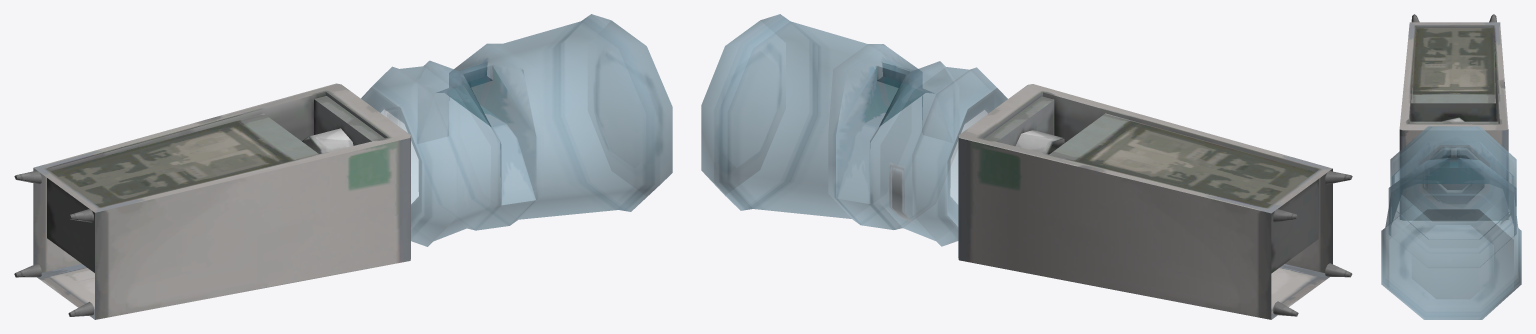
Rendered from props_spytech_watercooler.glb.
3 renders of one model, left to right at view 1: azimuth 30°, elevation 25°; view 2: azimuth 150°, elevation 25°; view 3: azimuth 270°, elevation 25°, orthographic. The views are drawn at different scales.
Visible parts, largest first — view 1: models/props_spytech/watercooler; view 2: models/props_spytech/watercooler; view 3: models/props_spytech/watercooler.
Part boxes in pixels (x1=…): models/props_spytech/watercooler: x1=14, y1=14, x2=672, y2=319; models/props_spytech/watercooler: x1=701, y1=14, x2=1352, y2=319; models/props_spytech/watercooler: x1=1381, y1=14, x2=1521, y2=319.
Bounding box in the file's own units: 82.3 × 22.64 × 23.22.
Materials: 2 (2 with a texture image).
